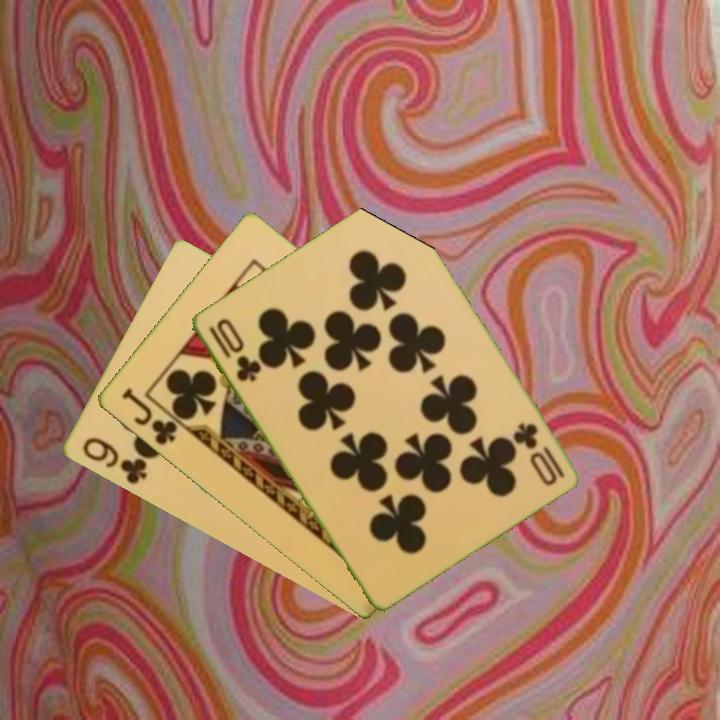10c: (204, 314, 263, 385), (509, 418, 567, 482)
9c: (78, 433, 150, 488)
Jc: (117, 384, 180, 449)
